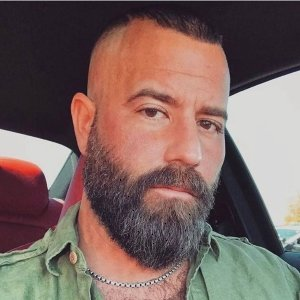beard: (76, 137, 225, 270)
